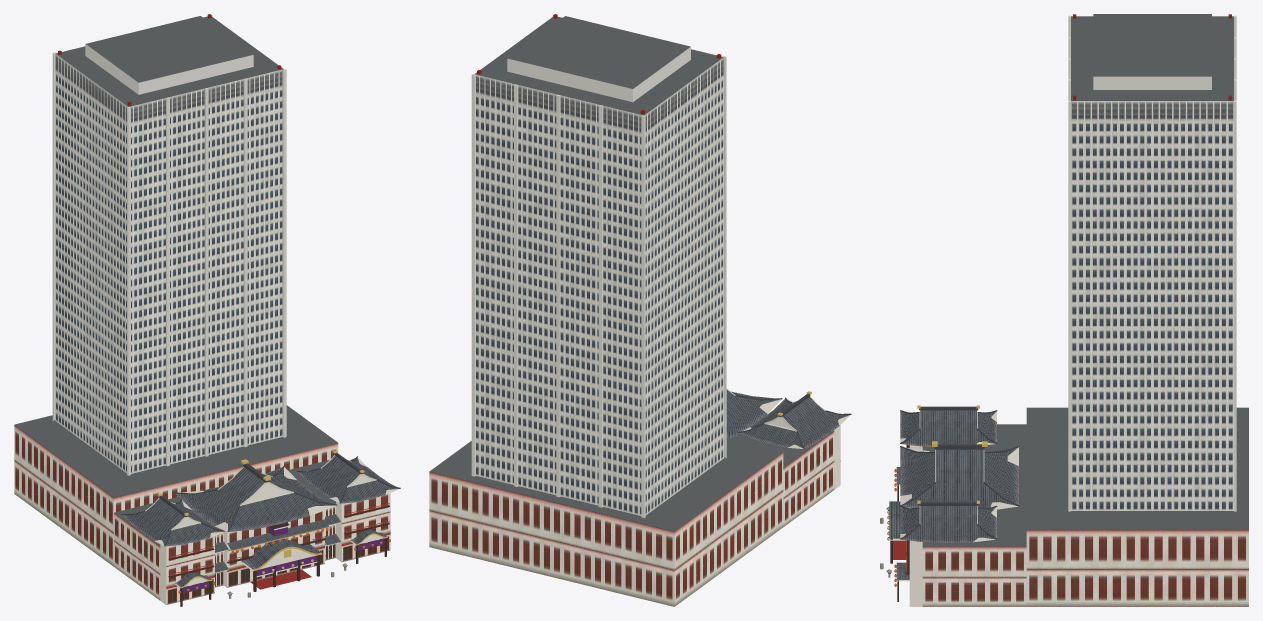
File: kabukiza.glb
3 renders of one model, left to right at view 1: azimuth 30°, elevation 25°; view 2: azimuth 150°, elevation 25°; view 3: azimuth 270°, elevation 25°, orthographic. The views are drawn at different scales.
Visible parts, largest first — view 1: kabukiza; view 2: kabukiza; view 3: kabukiza.
Boxes of the visible parts, x1=… form: kabukiza: x1=14, y1=14, x2=400, y2=606; kabukiza: x1=429, y1=14, x2=851, y2=606; kabukiza: x1=880, y1=14, x2=1248, y2=606.
Size of the model in its own units: 82.22 by 149 by 99.5.
Materials: 2 (2 with a texture image).
